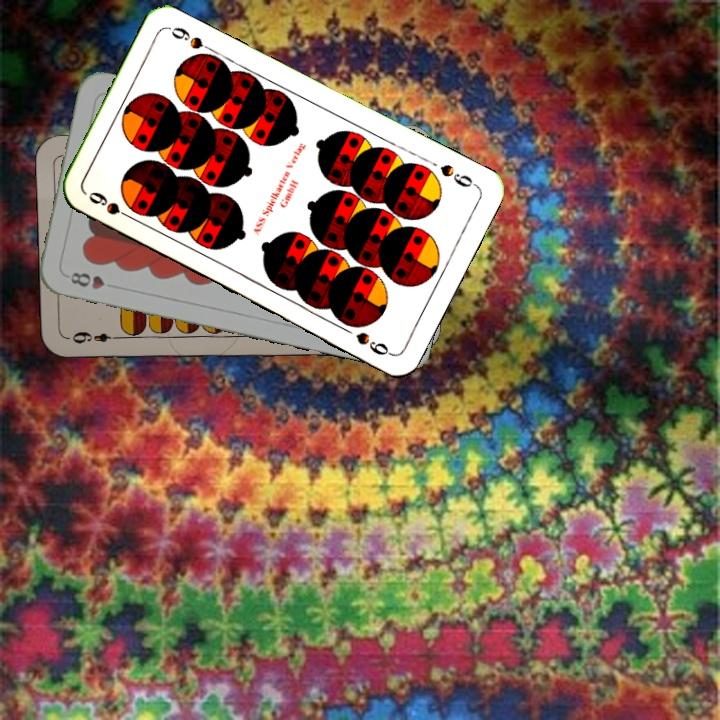E9: (65, 328, 124, 346)
H8: (66, 268, 121, 292)
S9: (84, 187, 137, 223), (436, 160, 480, 190)
